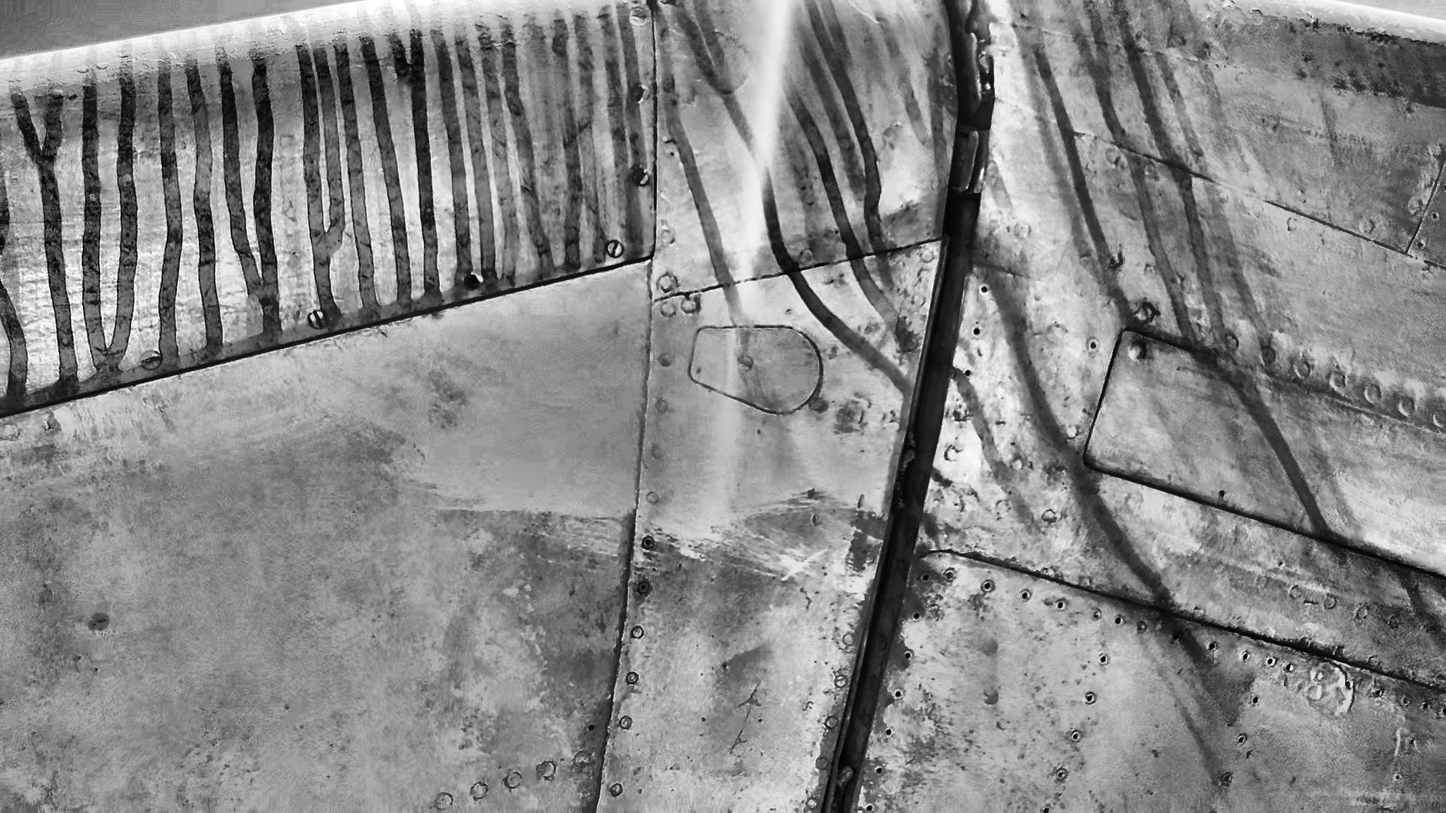dent: (881, 188, 923, 231), (727, 640, 764, 666)
missing-head: (467, 271, 484, 288), (981, 578, 996, 591), (1241, 647, 1252, 664), (1169, 630, 1182, 644), (1056, 598, 1069, 612), (1265, 653, 1277, 668), (1083, 693, 1096, 706), (945, 566, 955, 582), (864, 800, 876, 813), (1098, 653, 1109, 666), (1420, 698, 1431, 711), (913, 608, 923, 621), (921, 568, 930, 582), (1373, 687, 1384, 698), (1113, 614, 1122, 627), (973, 324, 981, 337), (981, 284, 990, 295), (964, 367, 973, 378), (1254, 693, 1263, 704), (1416, 239, 1425, 250), (876, 762, 883, 775), (1019, 591, 1032, 598), (1209, 638, 1216, 651), (1235, 734, 1245, 743), (894, 687, 902, 698), (904, 649, 911, 661), (885, 726, 892, 738), (1286, 661, 1293, 672), (1431, 213, 1440, 220)
